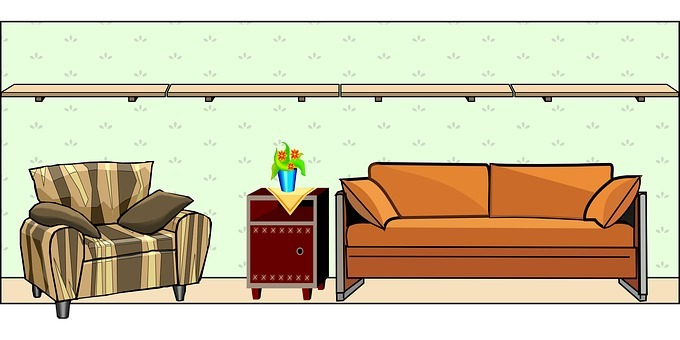pottedplant: (264, 136, 305, 194)
sofa: (323, 152, 654, 311), (7, 156, 213, 314)
